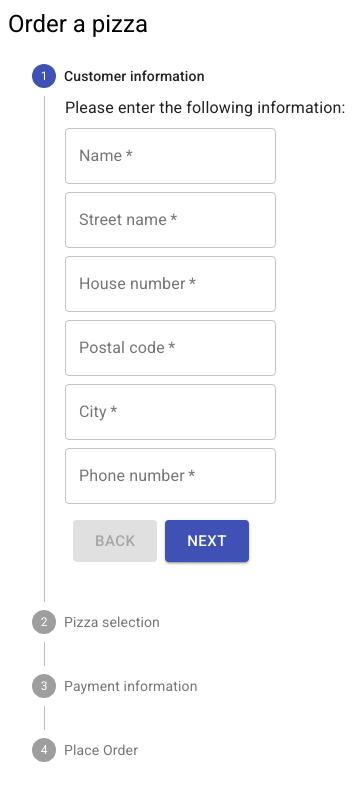
Test case: App › pass input to test street name input field
This screenshot has width=362, height=800.
Type "John Doe" into the field with test id "name-input".
click(170, 156); type("John Doe")  # box [65, 128, 276, 184]
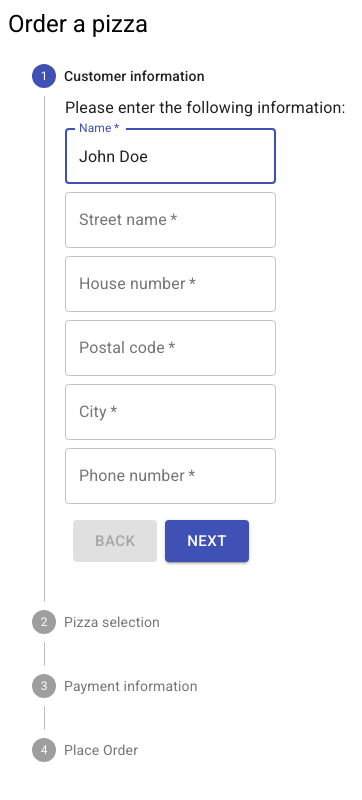
Type "John Doe" into the field with test id "streetName-input".
click(170, 220); type("John Doe")  # box [65, 192, 276, 248]
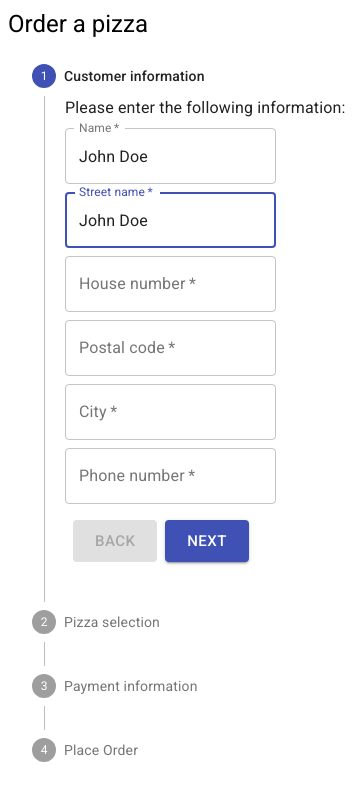
Click the button "Next".
click(207, 541)  # box [165, 520, 249, 562]
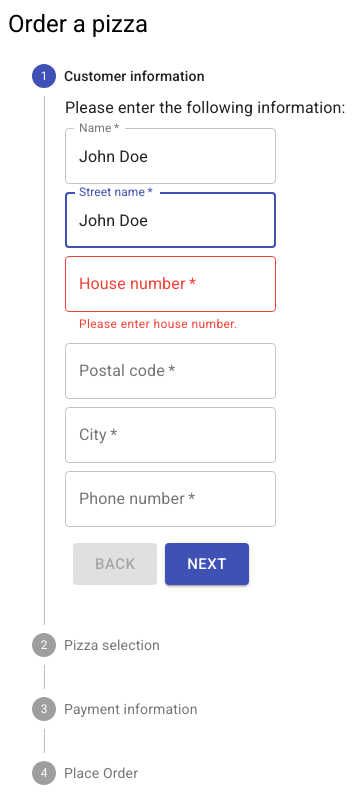
Now the text "Please enter house number." is shown, box [79, 315, 262, 335]
